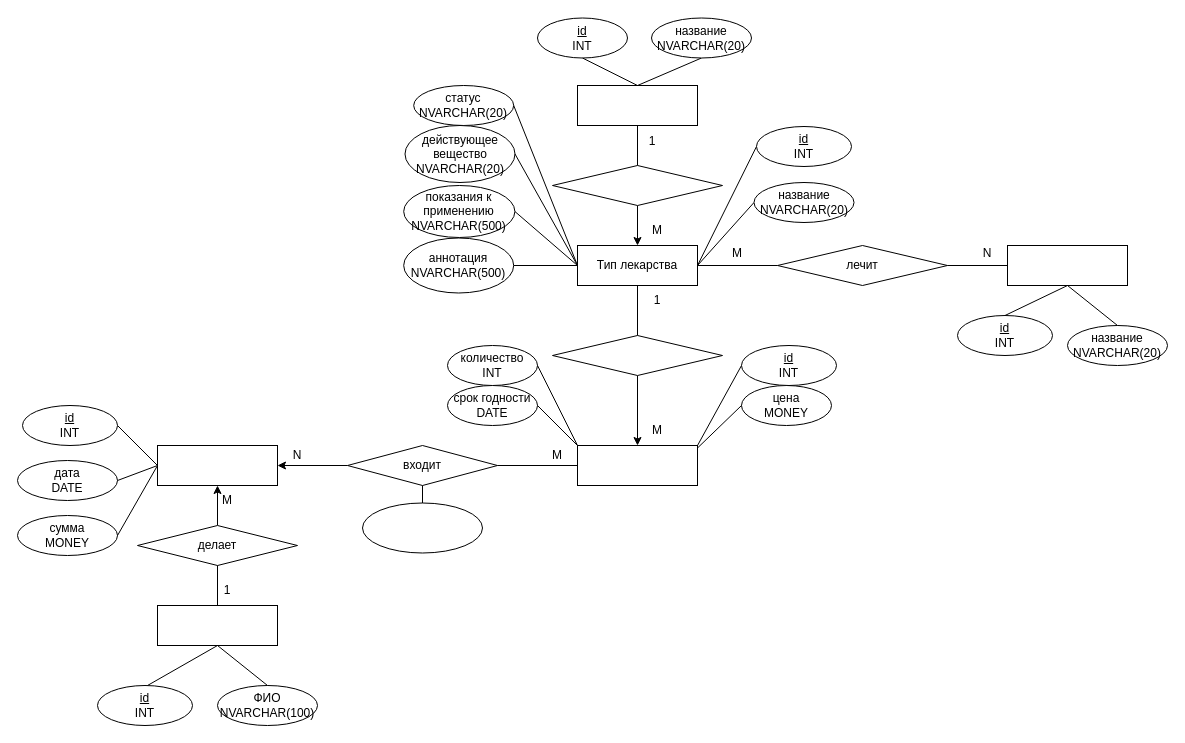
Image size: 1185x743. Some labels were removed from this diagram. Each missing label, with the centre of its shape:
Болезнь: pixel 1067 265
включает: pixel 637 355
изготавливает: pixel 637 185
Кассир: pixel 217 625
кол-во лекарства INT: pixel 422 527
Партия лекарства: pixel 637 465
Продажи: pixel 217 465
Производитель: pixel 637 105
